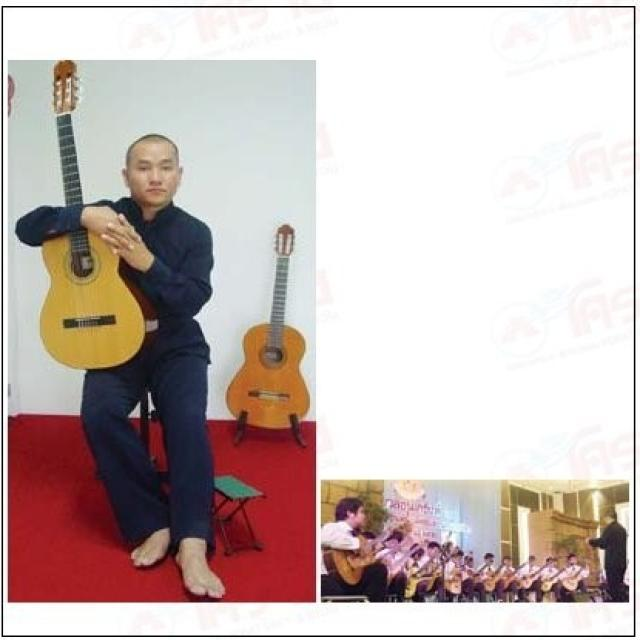guitar: (37, 60, 160, 372), (222, 224, 312, 434), (318, 525, 400, 587), (403, 548, 456, 598), (379, 544, 427, 582), (520, 558, 558, 588), (462, 560, 495, 589), (479, 562, 510, 592), (560, 568, 593, 594), (440, 556, 462, 592), (498, 563, 526, 590), (539, 572, 565, 592)
